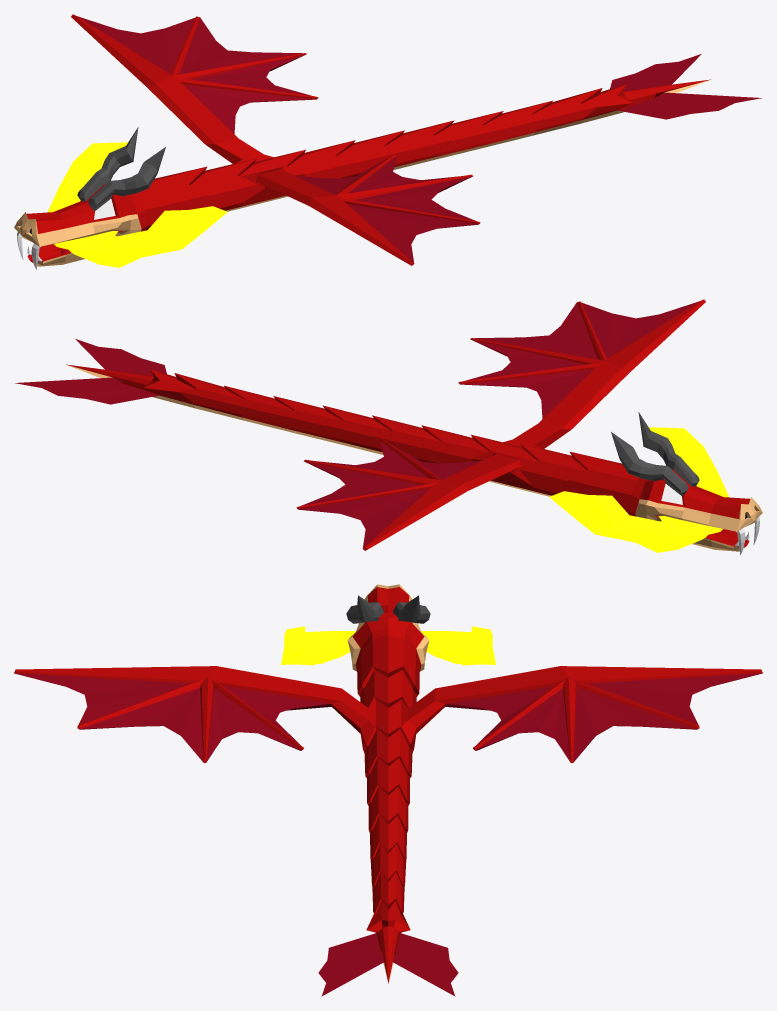
Rendered from fire character (1).fbx.
3 renders of one model, top to bottom at view 1: azimuth 30°, elevation 25°; view 2: azimuth 150°, elevation 25°; view 3: azimuth 270°, elevation 25°, orthographic. The views are drawn at different scales.
Visible parts, largest first — view 1: Cube; view 2: Cube; view 3: Cube.
Part boxes in pixels (x1,y1,x2,y2): Cube: [14, 14, 761, 269]; Cube: [15, 299, 762, 554]; Cube: [14, 584, 762, 996].
Bounding box in the file's own units: 3690 × 507 × 3055.
